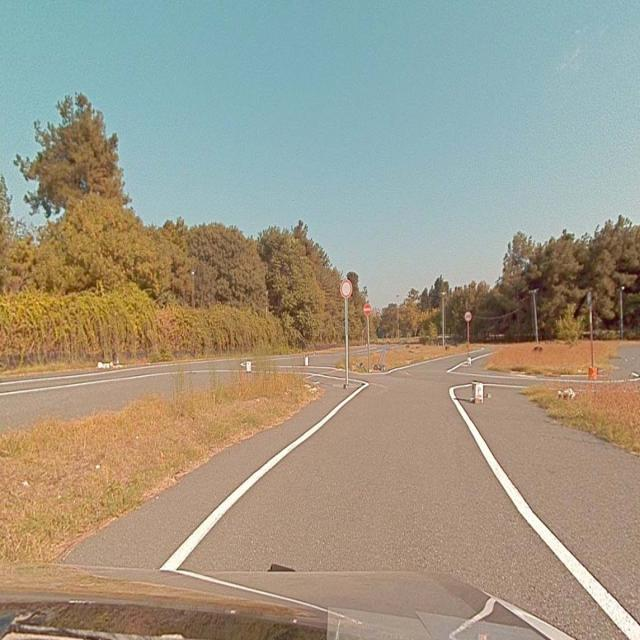girisyok: (364, 304, 371, 316)
